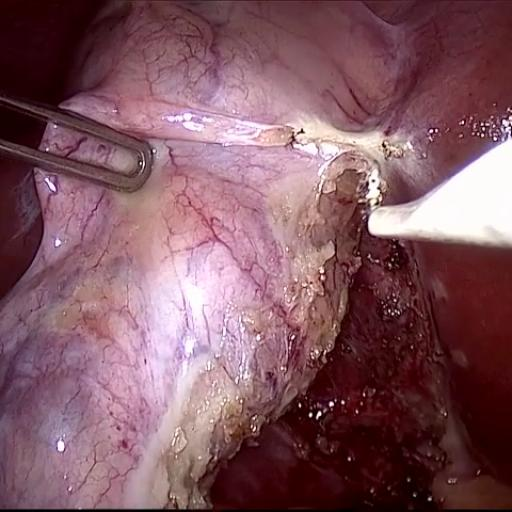Grasper: (0, 66, 160, 224)
Hook: (334, 112, 512, 288)
